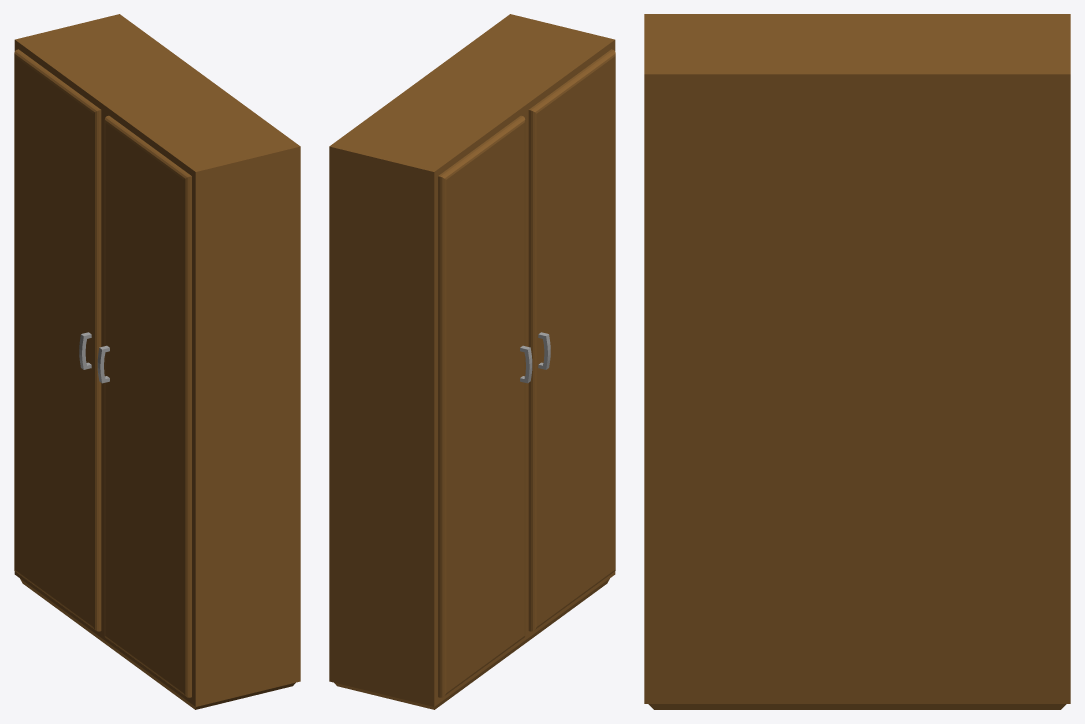
File: Wardrobe_9.fbx
The picture shows the model from 3 angles, left to right: view 1: azimuth 30°, elevation 25°; view 2: azimuth 150°, elevation 25°; view 3: azimuth 270°, elevation 25°; orthographic projection. The views are drawn at different scales.
Parts seen in each view (by area): view 1: Wardrobe_9, Wardrobe_9 Door_2, Wardrobe_9 Door_1; view 2: Wardrobe_9, Wardrobe_9 Door_1, Wardrobe_9 Door_2; view 3: Wardrobe_9.
Boxes of the visible parts, left/top/right/bottom form: Wardrobe_9: left=14, top=14, right=300, bottom=709; Wardrobe_9 Door_2: left=97, top=115, right=191, bottom=697; Wardrobe_9 Door_1: left=14, top=49, right=101, bottom=631; Wardrobe_9: left=329, top=14, right=615, bottom=709; Wardrobe_9 Door_1: left=438, top=115, right=532, bottom=697; Wardrobe_9 Door_2: left=528, top=49, right=615, bottom=631; Wardrobe_9: left=644, top=14, right=1070, bottom=709.
Bounding box in the file's own units: 0.4601 × 1.98 × 1.2.
